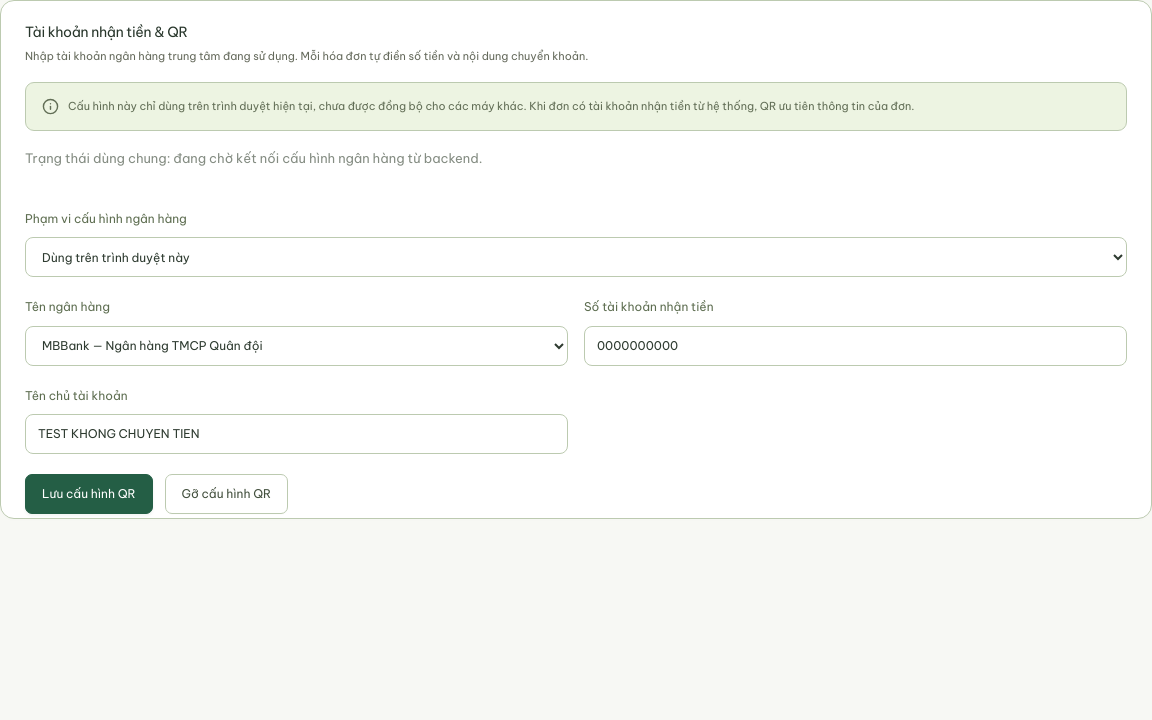
removing bank configuration also clears visible account fields
This screenshot has width=1152, height=720.
Expected: the field labelled "Số tài khoản nhận tiền" holds "0000000000", [584,326,1127,366]
Step 1. Click the button "Gỡ cấu hình QR" → click(226, 494), box [164,474,288,514]
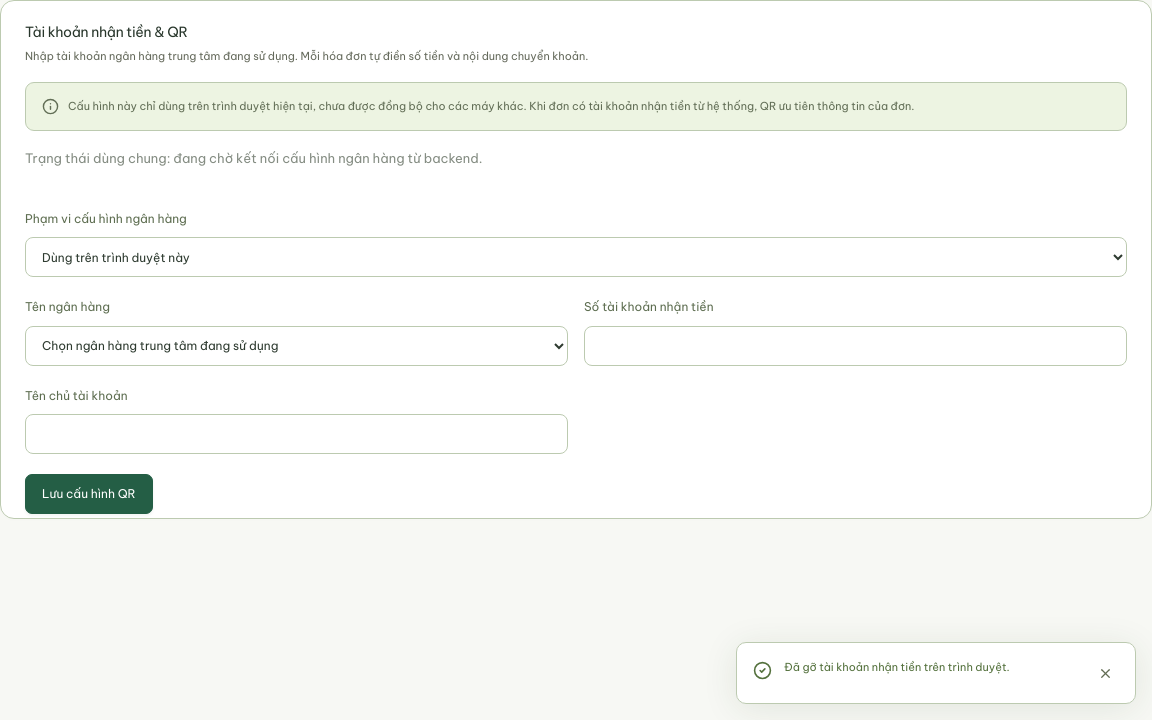
Expected: the field labelled "Số tài khoản nhận tiền" is empty, [584,326,1127,366]
Expected: the field labelled "Tên chủ tài khoản" is empty, [25,414,568,454]
Expected: the dropdown labelled "Tên ngân hàng" shows "Chọn ngân hàng trung tâm đang sử dụng", [25,326,568,366]
